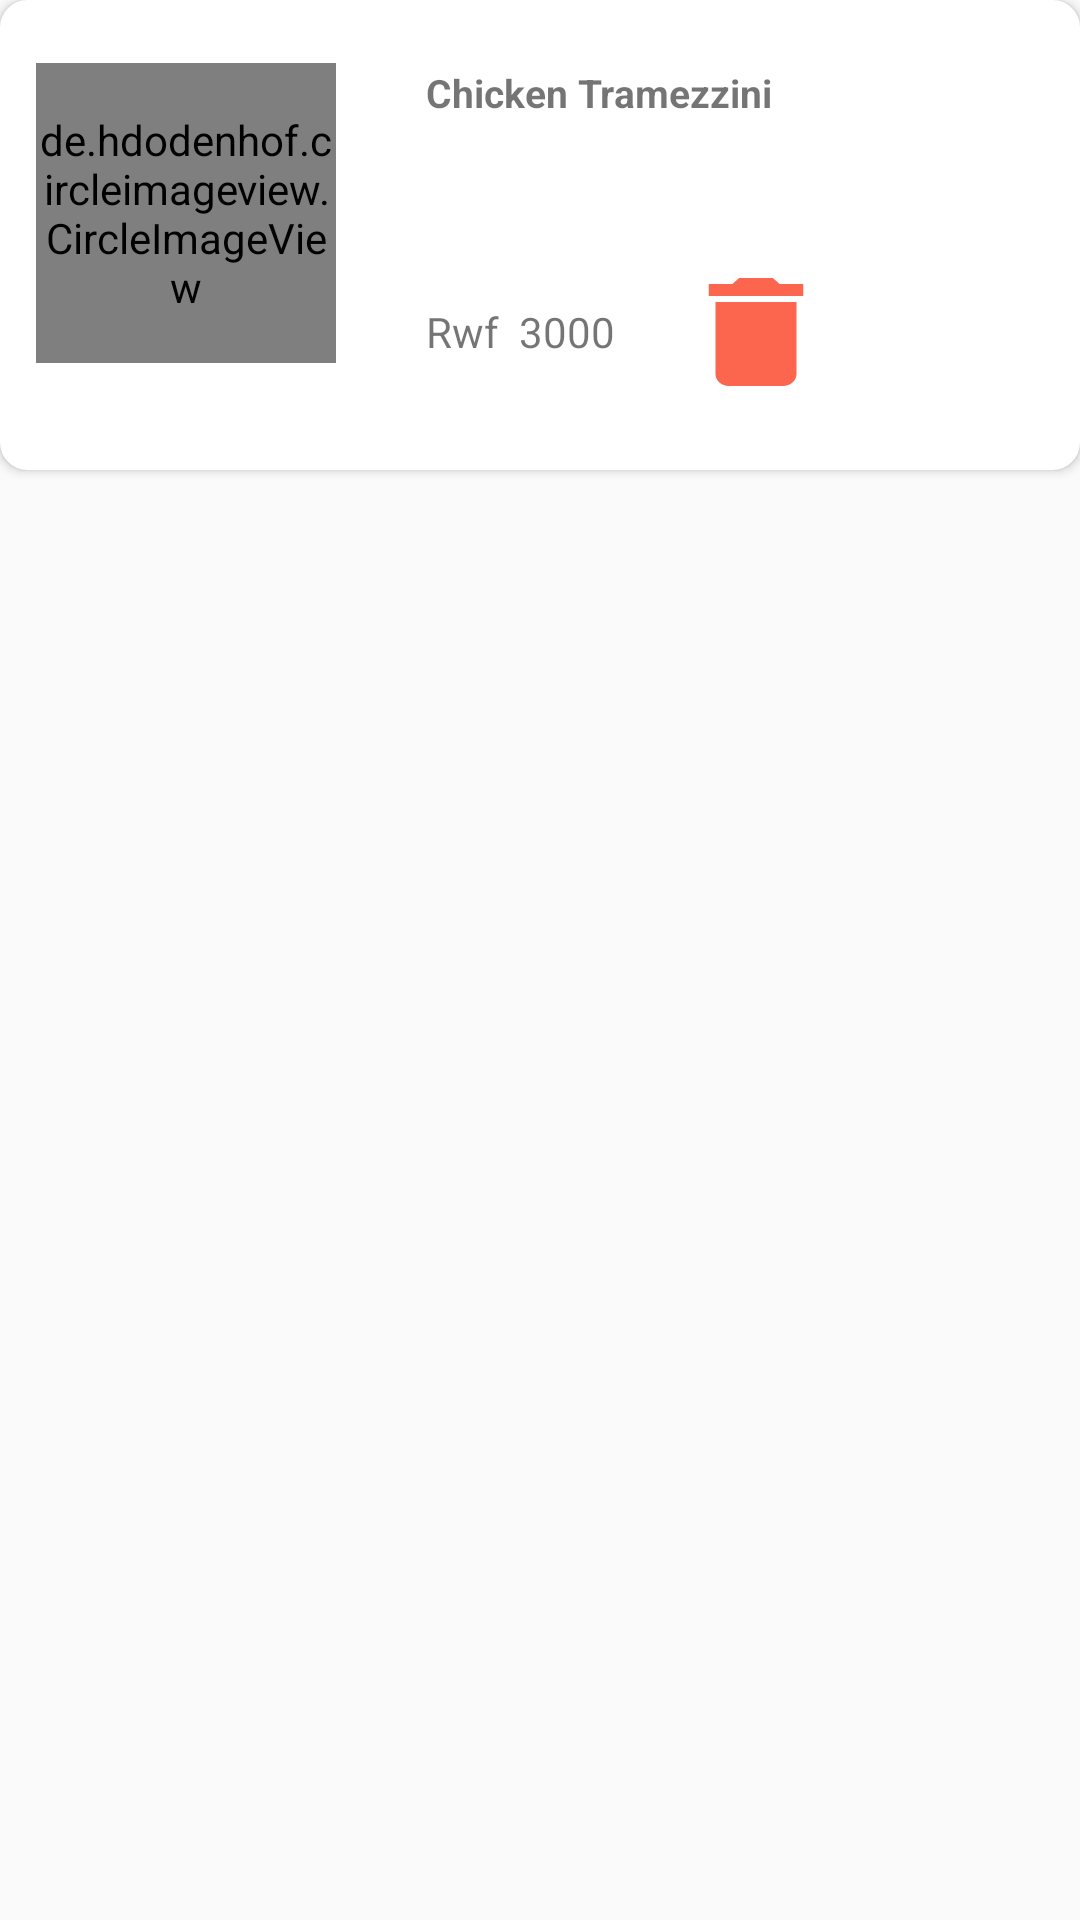

Screen size 1080×1920. Icon name, then its box in pixels as box(x1, y1, x2, y2):
delete: box(708, 278, 804, 386)
